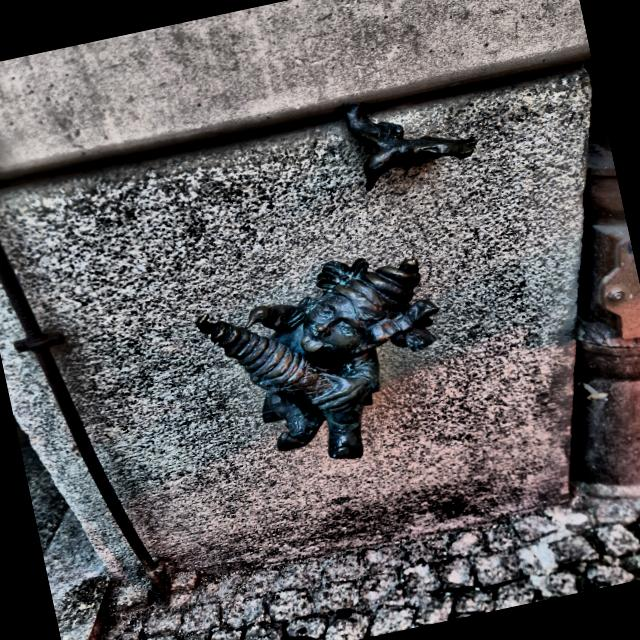Dziupelka: (198, 259, 438, 460), (342, 104, 476, 191)
